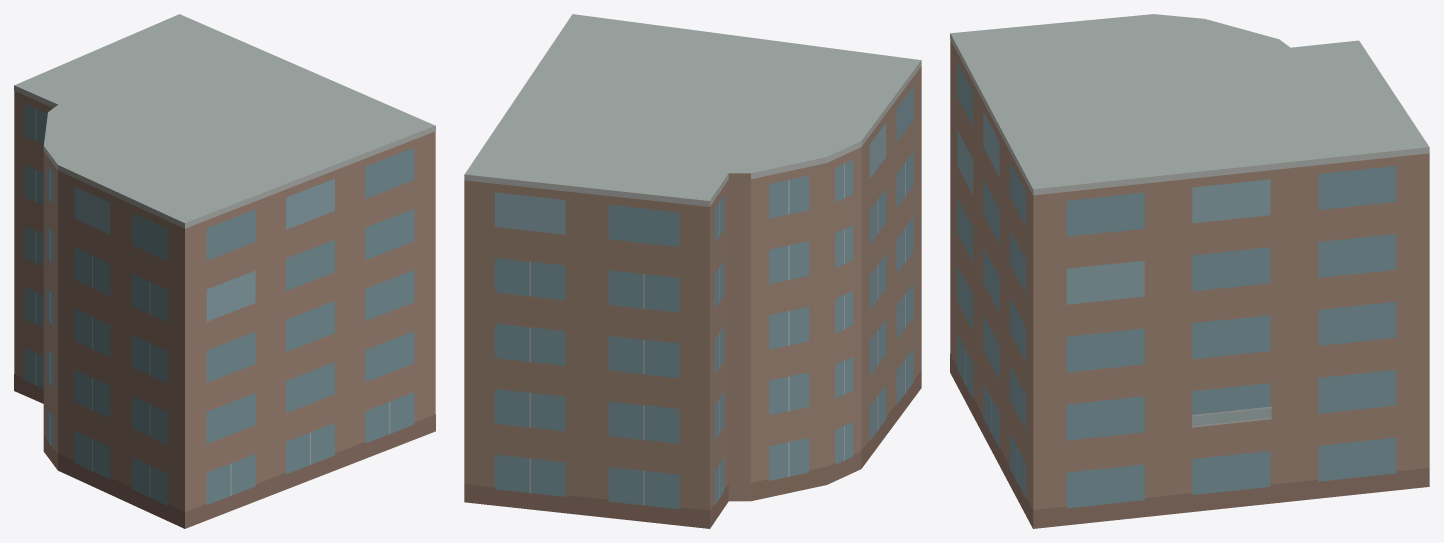
The model's file is survey-upis-32507004.glb.
3 views of the same model, side by side, from view 1: azimuth 30°, elevation 25°; view 2: azimuth 150°, elevation 25°; view 3: azimuth 270°, elevation 25° (orthographic). The views are drawn at different scales.
Parts seen in each view (by area): view 1: survey-upis-32507004.tmp; view 2: survey-upis-32507004.tmp; view 3: survey-upis-32507004.tmp.
Part boxes in pixels (<box>): survey-upis-32507004.tmp: <box>14,14,435,528</box>; survey-upis-32507004.tmp: <box>464,14,921,528</box>; survey-upis-32507004.tmp: <box>950,14,1429,528</box>.
Bounding box in the file's own units: 15.02 × 13.55 × 17.35.
